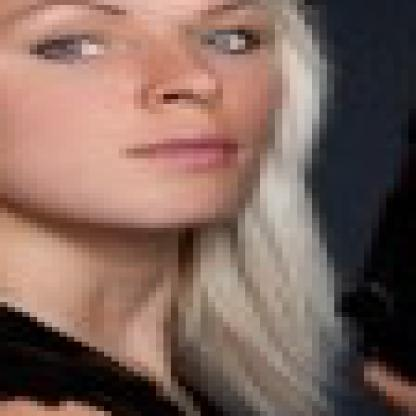gun: (327, 0, 408, 401)
